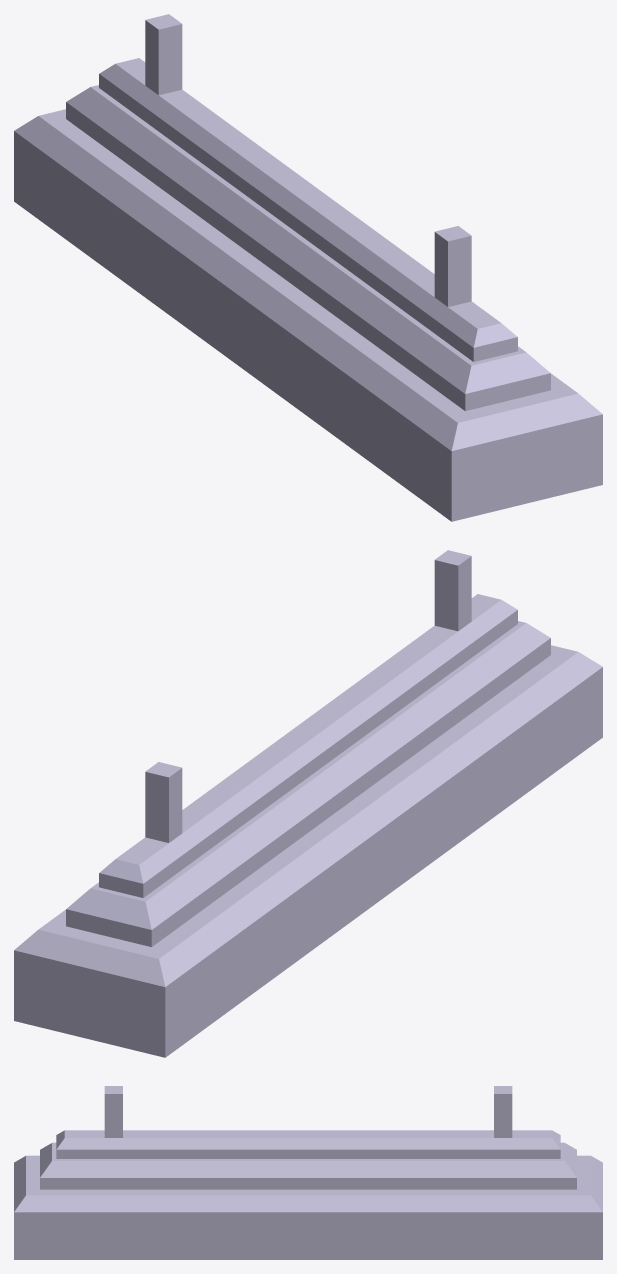
File: BroadLight.fbx
3 renders of one model, top to bottom at view 1: azimuth 30°, elevation 25°; view 2: azimuth 150°, elevation 25°; view 3: azimuth 270°, elevation 25°, orthographic. The views are drawn at different scales.
Parts seen in each view (by area): view 1: BroadLight; view 2: BroadLight; view 3: BroadLight.
Boxes of the visible parts, x1,y1,x2,y2 form: BroadLight: (14, 14, 602, 521); BroadLight: (14, 550, 602, 1057); BroadLight: (14, 1086, 602, 1259).
Size of the model in its own units: 67.76 by 92.17 by 339.
